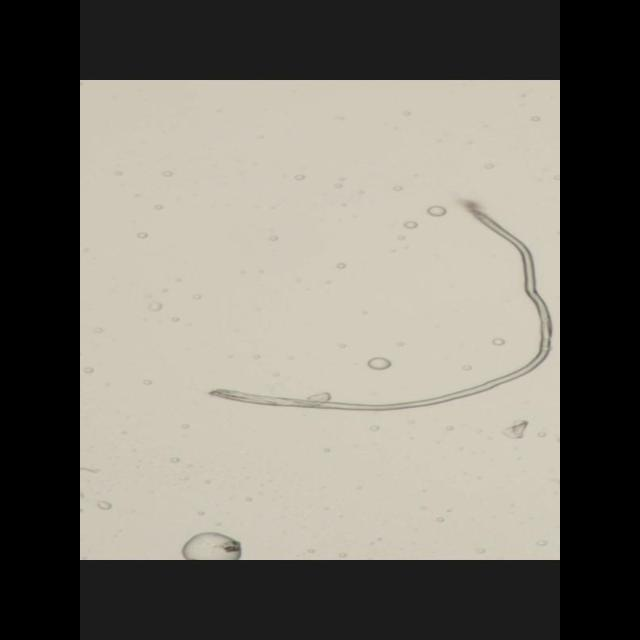Fibre: (208, 200, 554, 412)
